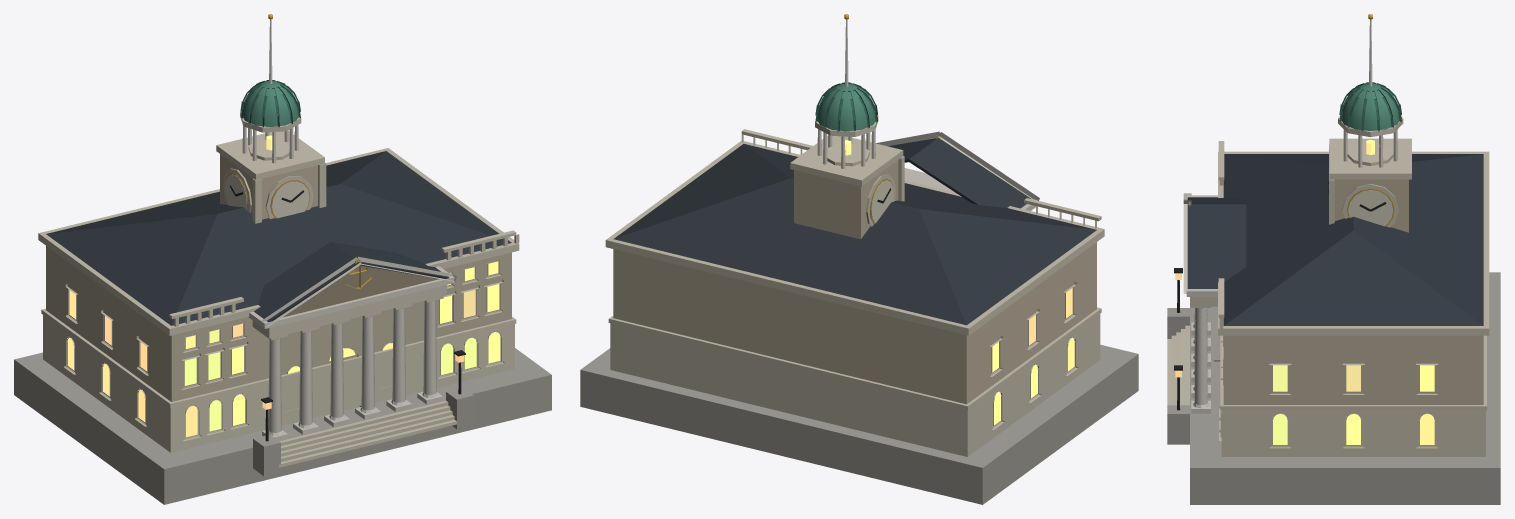
Rendered from customs.glb.
3 views of the same model, side by side, from view 1: azimuth 30°, elevation 25°; view 2: azimuth 150°, elevation 25°; view 3: azimuth 270°, elevation 25° (orthographic). The views are drawn at different scales.
Parts seen in each view (by area): view 1: customs_body, customs_body_windows; view 2: customs_body, customs_body_windows; view 3: customs_body, customs_body_windows.
Part boxes in pixels (x1=…): customs_body: x1=14, y1=14, x2=551, y2=504; customs_body_windows: x1=67, y1=261, x2=500, y2=437; customs_body: x1=580, y1=14, x2=1138, y2=504; customs_body_windows: x1=992, y1=288, x2=1074, y2=425; customs_body: x1=1167, y1=14, x2=1500, y2=504; customs_body_windows: x1=1273, y1=365, x2=1434, y2=444.
Bounding box in the file's own units: 41 × 38.38 × 29.5.
